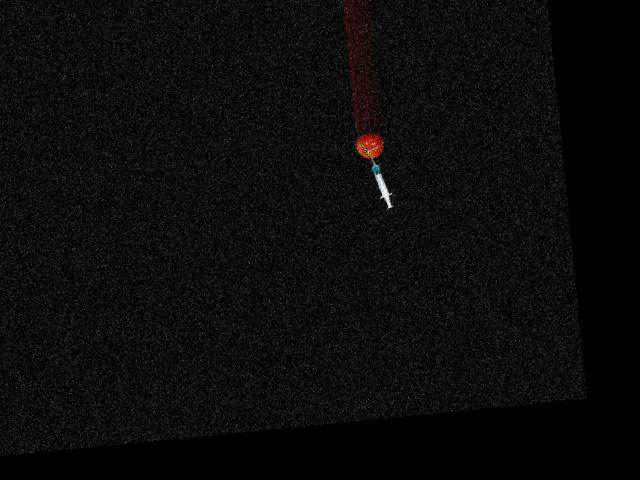tomato: (355, 131, 385, 159)
